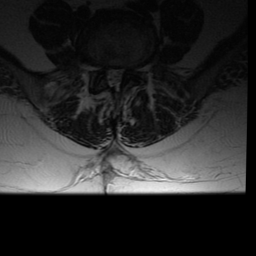CCS_normal: (111, 63, 117, 94)
LFS_severe_stenosis: (125, 62, 133, 81)
LLS_normal: (118, 63, 124, 82)
RFS_severe_stenosis: (98, 62, 105, 78)
RLS_stenosis: (105, 63, 111, 87)
